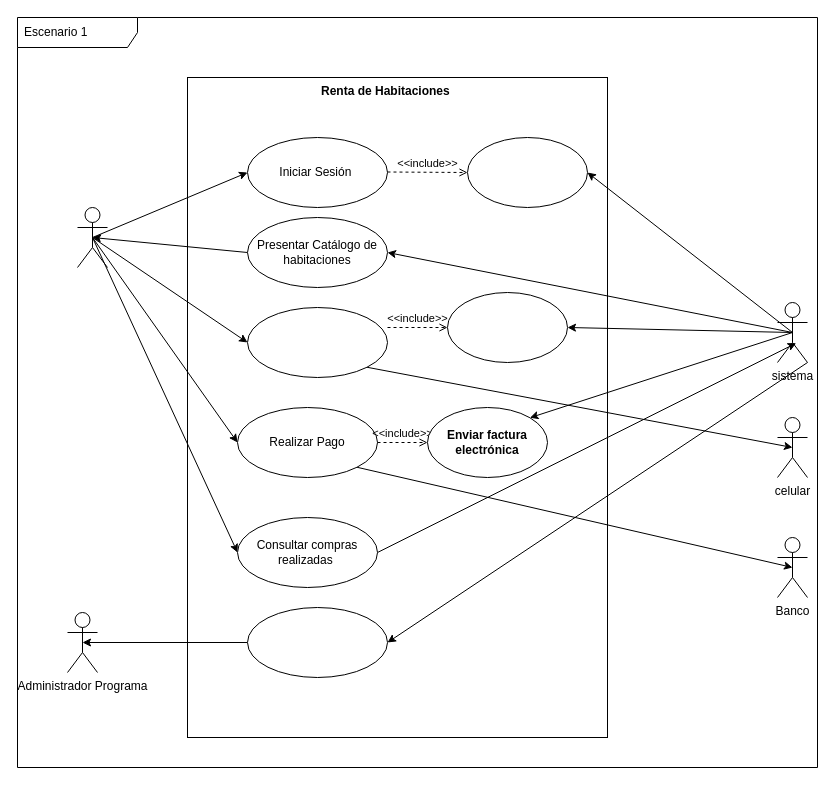
This 835x785 diagram has some shape labels left out. The centre of each missing label's shape, as x and y in pixels:
"cliente" belongs at point (92, 237).
"Generar reportes estadísticos" belongs at point (317, 642).
"Seleccionar Habitación" belongs at point (317, 342).
"Validar Datos" belongs at point (527, 172).
"Verificar Disponibilidad" belongs at point (507, 327).
